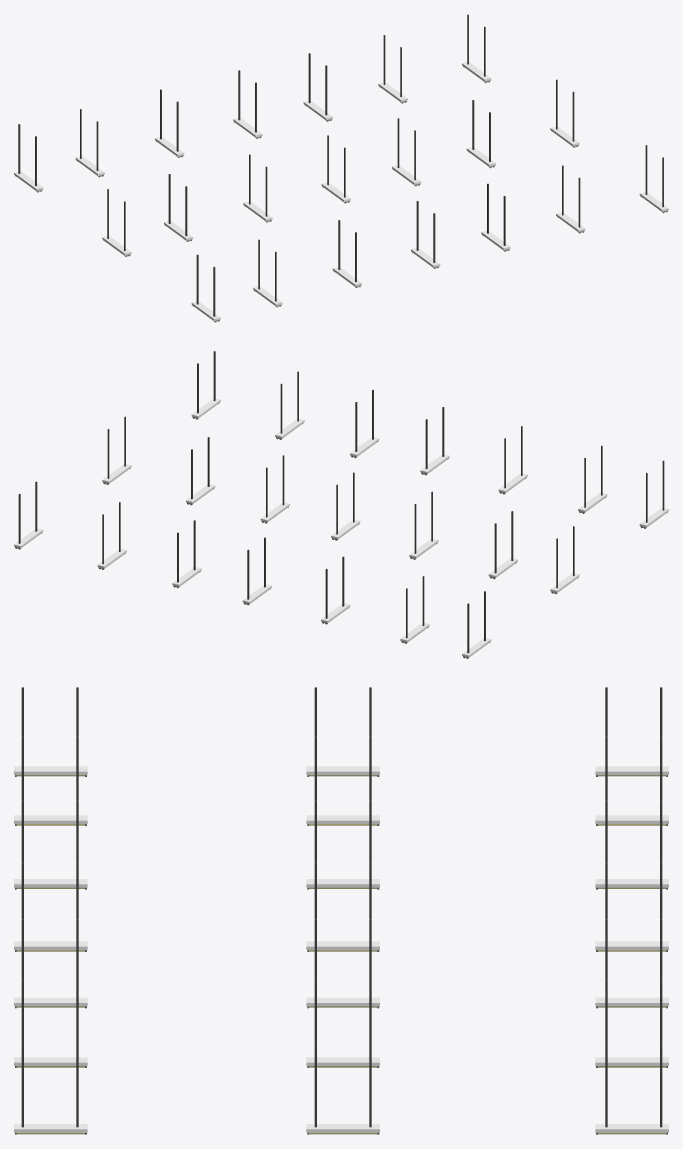
The model's file is lightStrips_EMBED.fbx.
3 renders of one model, top to bottom at view 1: azimuth 30°, elevation 25°; view 2: azimuth 150°, elevation 25°; view 3: azimuth 270°, elevation 25°, orthographic. The views are drawn at different scales.
Parts seen in each view (by area): view 1: no part large enough to name; view 2: no part large enough to name; view 3: LIght_Cell.013, LIght_Cell.014, LIght_Cell.015, LIght_Cell.019, LIght_Cell.020, LIght_Cell.021.
Boxes of the visible parts, x1,y1,x2,y2 form: LIght_Cell.013: (14, 997, 87, 1006); LIght_Cell.014: (595, 997, 668, 1006); LIght_Cell.015: (306, 997, 379, 1006); LIght_Cell.019: (14, 1124, 87, 1132); LIght_Cell.020: (595, 1124, 668, 1132); LIght_Cell.021: (306, 1124, 379, 1132).
Size of the model in its own units: 10340 by 1161 by 7879.
